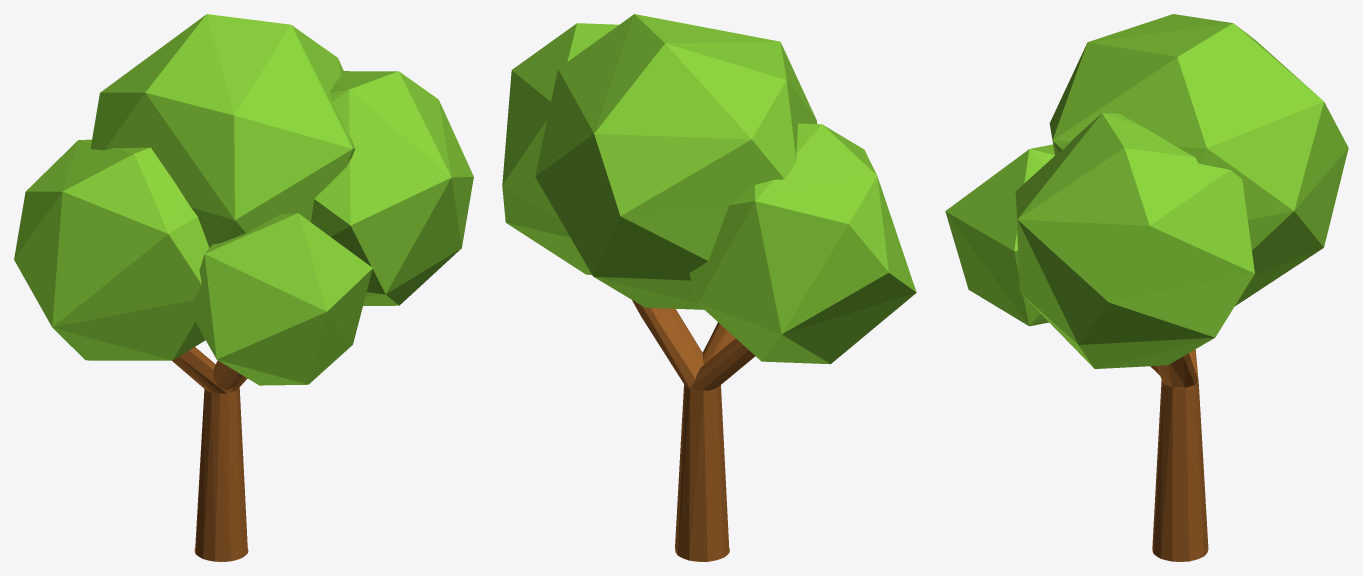
Rendered from ARBOL2.fbx.
3 views of the same model, side by side, from view 1: azimuth 30°, elevation 25°; view 2: azimuth 150°, elevation 25°; view 3: azimuth 270°, elevation 25° (orthographic). The views are drawn at different scales.
Visible parts, largest first — view 1: Icosphere.000, Cylinder; view 2: Icosphere.000, Cylinder; view 3: Icosphere.000, Cylinder.
Part boxes in pixels (x1,y1,x2,y2): Icosphere.000: (14, 14, 473, 385); Cylinder: (172, 347, 248, 561); Icosphere.000: (502, 14, 916, 364); Cylinder: (632, 300, 755, 561); Icosphere.000: (945, 14, 1348, 368); Cylinder: (1150, 349, 1208, 561).
Size of the model in its own units: 1108 by 1320 by 906.
